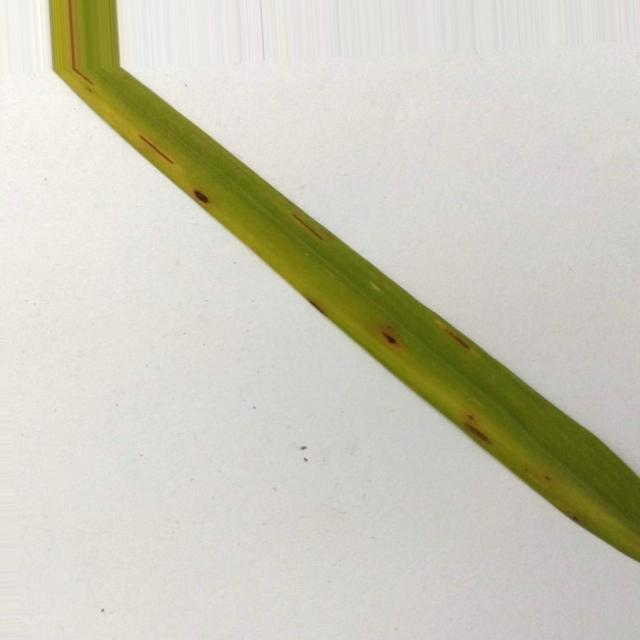Brown_Spot: (291, 206, 338, 241), (139, 134, 174, 163), (439, 324, 471, 350), (375, 325, 405, 350), (59, 69, 94, 86), (464, 422, 491, 444), (304, 294, 325, 314), (192, 189, 209, 204), (461, 410, 475, 422), (568, 515, 582, 526), (521, 464, 532, 478), (541, 474, 554, 484)
